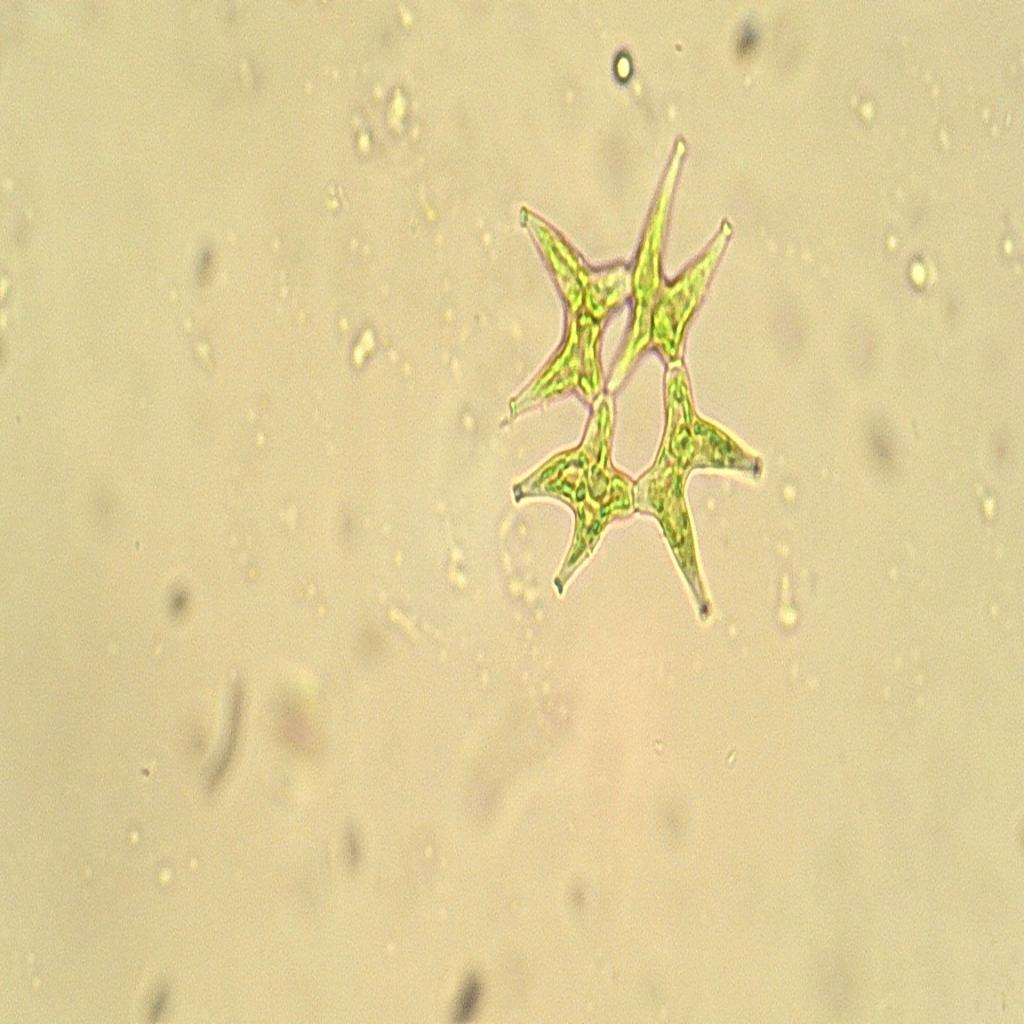Pediastrum_CF: (495, 102, 775, 666)
